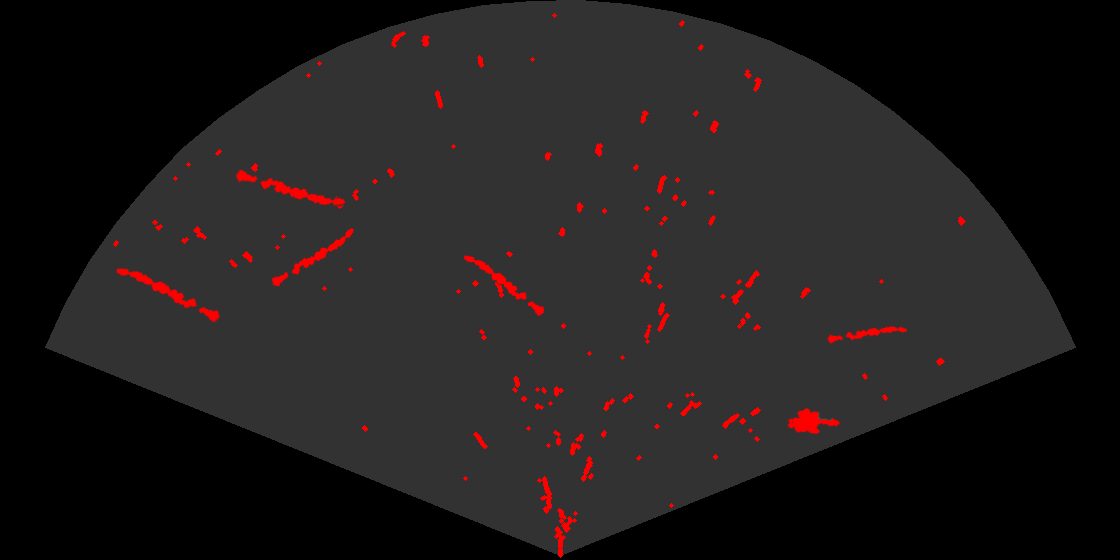AUV: (786, 406, 842, 436)
chain: (115, 266, 221, 324), (462, 254, 546, 318), (270, 227, 356, 288), (234, 168, 347, 207), (824, 324, 909, 345)
